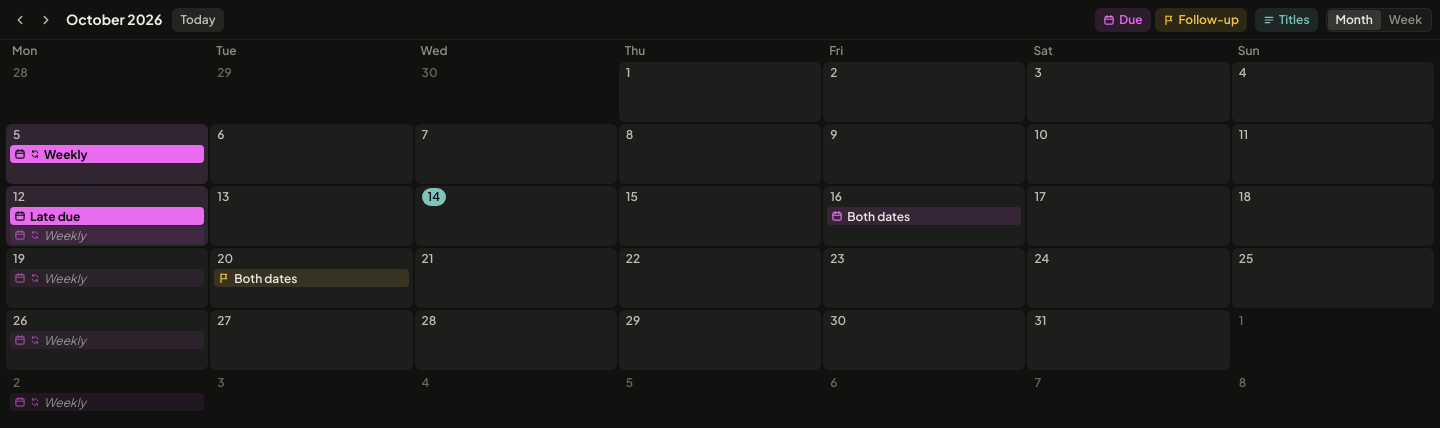
CalendarWidget › date-type toggles are layout config (unsaved); both can be off
What coordinates should you click on to do the following:
click the button "Due"
I would click on:
 (1123, 20)
Its box is 1095,8 -> 1151,32.
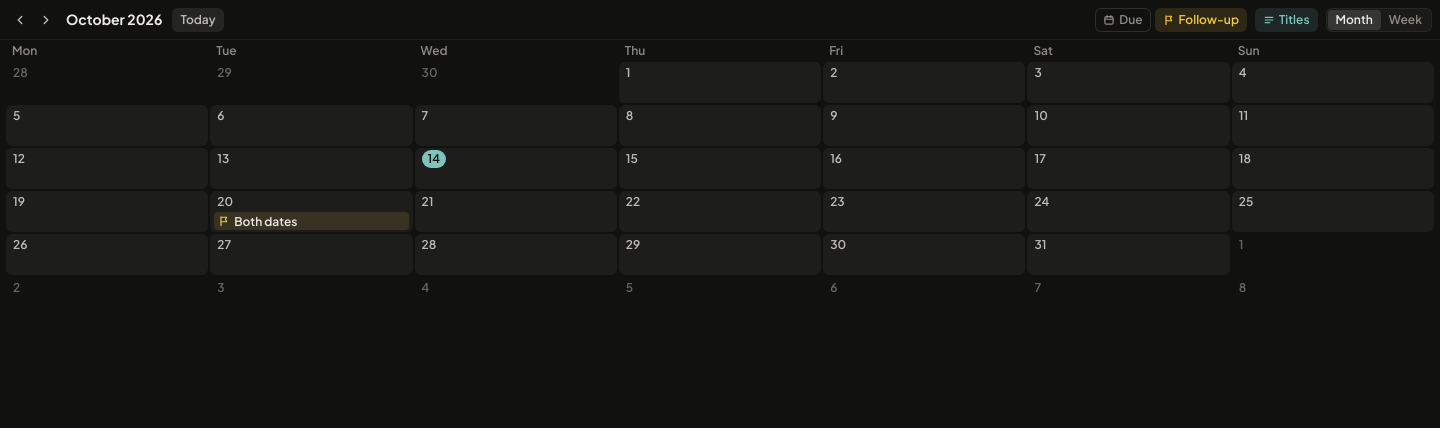
Expected: the text "Both dates" is shown, 234,214 -> 297,228
What coordinates should you click on to do the following:
click the button "Follow-up"
I would click on:
 (1201, 20)
Its box is 1154,8 -> 1247,32.
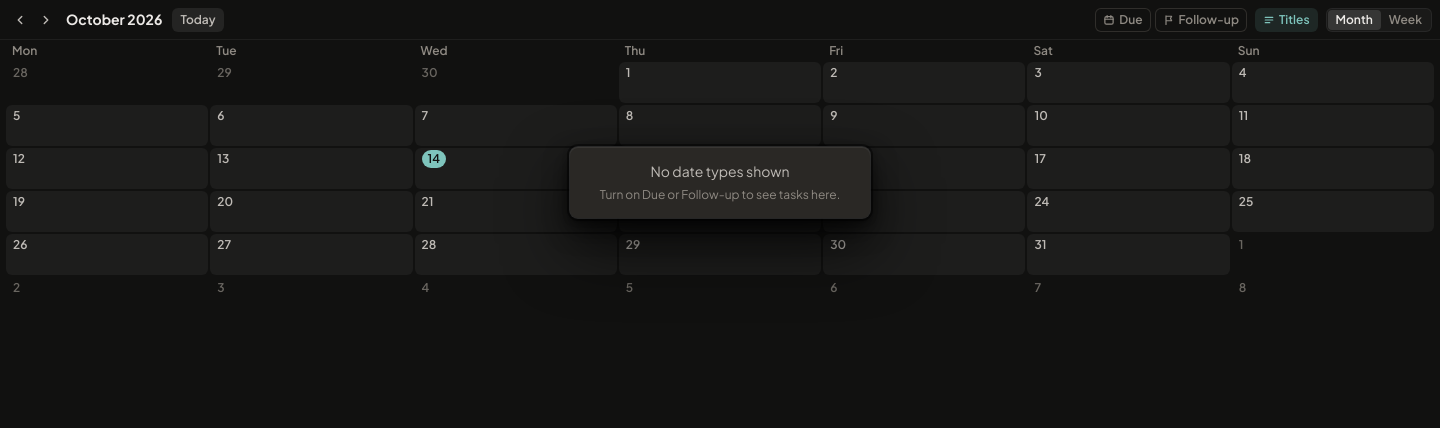
Expected: the text "No date types shown" is shown, 650,162 -> 790,180
